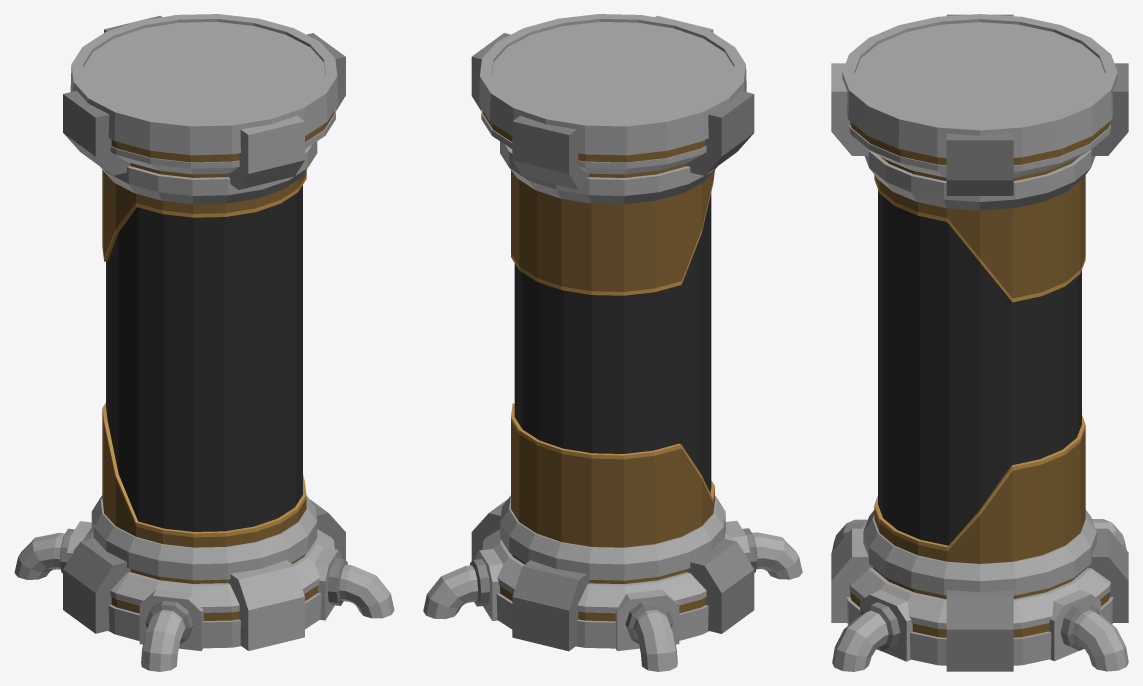
Rendered from Props_Pod.fbx.
3 views of the same model, side by side, from view 1: azimuth 30°, elevation 25°; view 2: azimuth 150°, elevation 25°; view 3: azimuth 270°, elevation 25° (orthographic). The views are drawn at different scales.
Parts seen in each view (by area): view 1: Props_Pod; view 2: Props_Pod; view 3: Props_Pod.
Part boxes in pixels (x1,y1,x2,y2): Props_Pod: [14, 14, 394, 671]; Props_Pod: [423, 14, 802, 671]; Props_Pod: [831, 14, 1128, 671].
Bounding box in the file's own units: 1.81 × 3.61 × 1.81.
